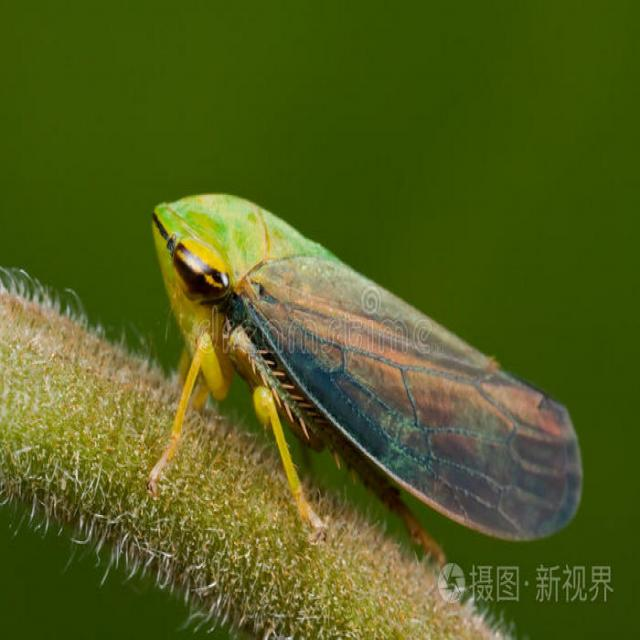Yechan: (146, 186, 582, 544)
